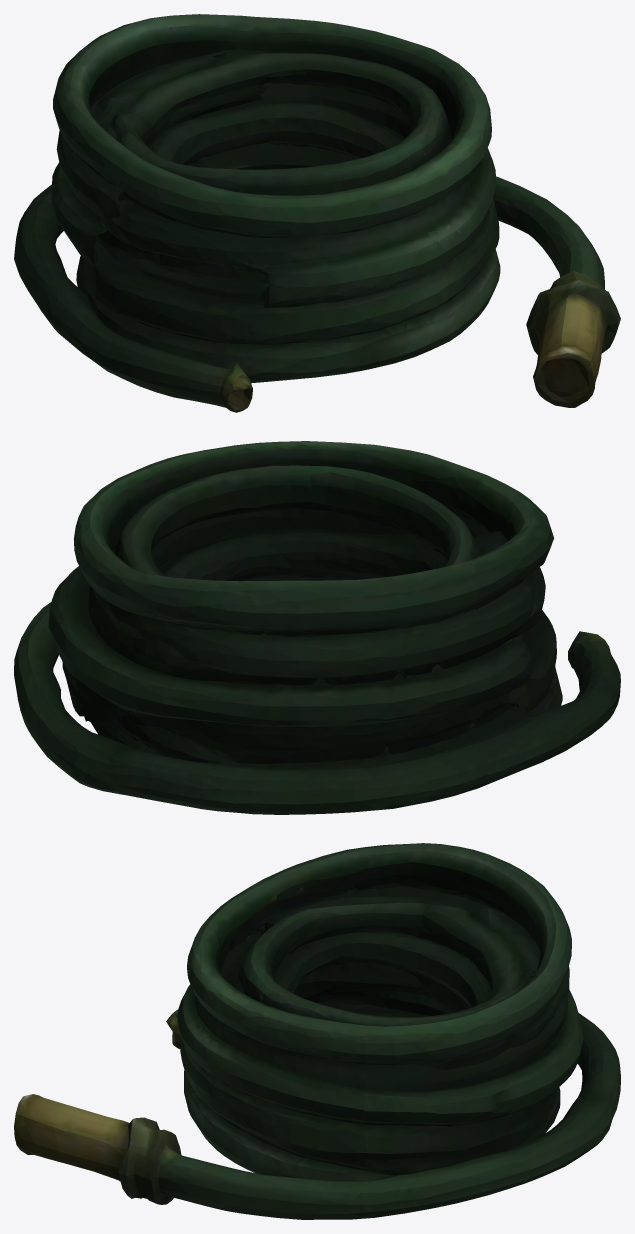
The model's file is hose.glb.
3 views of the same model, one above another, from view 1: azimuth 30°, elevation 25°; view 2: azimuth 150°, elevation 25°; view 3: azimuth 270°, elevation 25° (orthographic). The views are drawn at different scales.
Visible parts, largest first — view 1: world; view 2: world; view 3: world.
Boxes of the visible parts, x1,y1,x2,y2 form: world: (14, 14, 620, 412); world: (14, 441, 620, 814); world: (14, 843, 620, 1219).
Size of the model in its own units: 0.8544 by 0.3816 by 1.
Materials: 1 (1 with a texture image).
